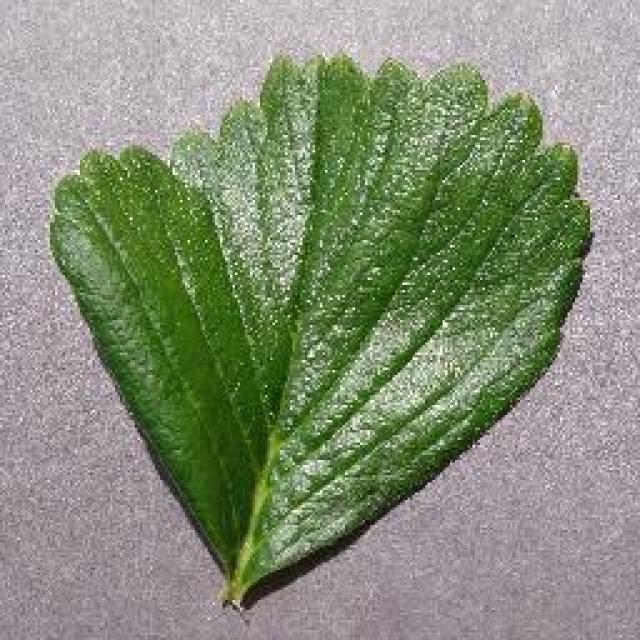Strawberry___healthy: (33, 28, 605, 632)
